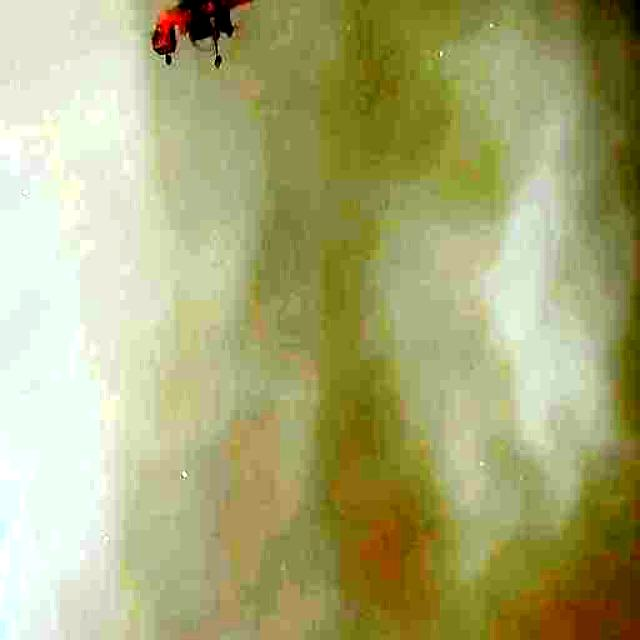drone: (118, 0, 319, 70)
